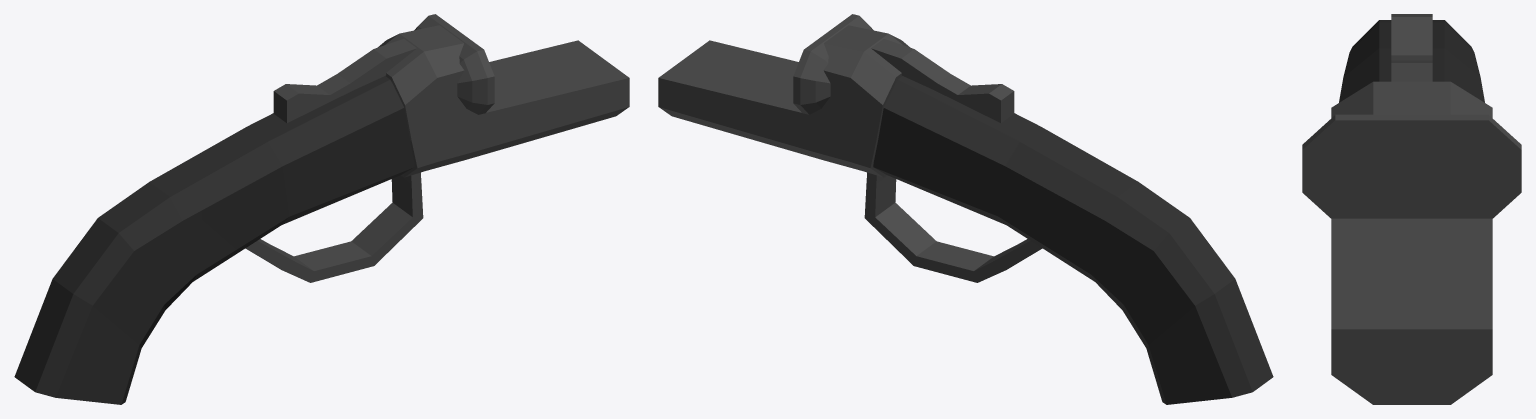
The model's file is Shotgun4_02.fbx.
The picture shows the model from 3 angles, left to right: view 1: azimuth 30°, elevation 25°; view 2: azimuth 150°, elevation 25°; view 3: azimuth 270°, elevation 25°; orthographic projection. The views are drawn at different scales.
Visible parts, largest first — view 1: Shotgun4_02; view 2: Shotgun4_02; view 3: Shotgun4_02.
Boxes of the visible parts, box(x1,y1,x2,y2) form: Shotgun4_02: box(14, 14, 629, 404); Shotgun4_02: box(658, 14, 1273, 404); Shotgun4_02: box(1302, 14, 1521, 404).
Size of the model in its own units: 0.2995 by 0.1382 by 0.0624.
